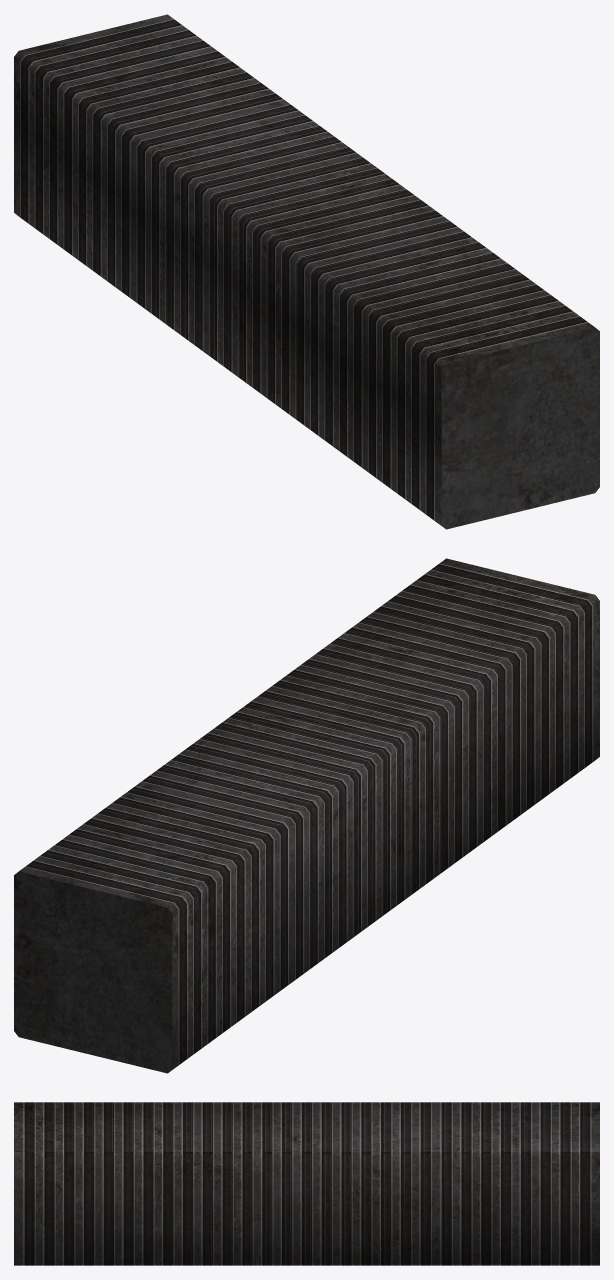
Rendered from girder_lab_straight.dae.
3 views of the same model, one above another, from view 1: azimuth 30°, elevation 25°; view 2: azimuth 150°, elevation 25°; view 3: azimuth 270°, elevation 25° (orthographic). The views are drawn at different scales.
Parts seen in each view (by area): view 1: girder_lab_straight_pCube13; view 2: girder_lab_straight_pCube13; view 3: girder_lab_straight_pCube13.
Boxes of the visible parts, x1=… form: girder_lab_straight_pCube13: x1=14, y1=14, x2=599, y2=529; girder_lab_straight_pCube13: x1=14, y1=558, x2=599, y2=1073; girder_lab_straight_pCube13: x1=14, y1=1102, x2=599, y2=1265.
Size of the model in its own units: 0.2139 by 0.2139 by 1.
1 material, 1 textured.
